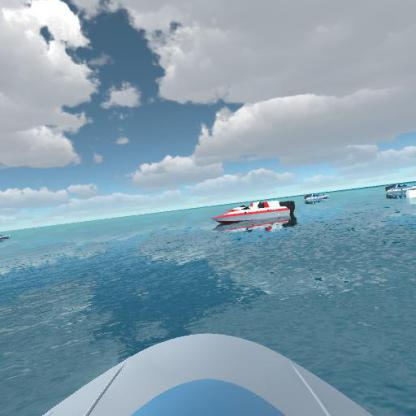usv1: (384, 178, 416, 199), (300, 190, 333, 206)
usv3: (212, 198, 302, 229), (226, 203, 258, 216)
